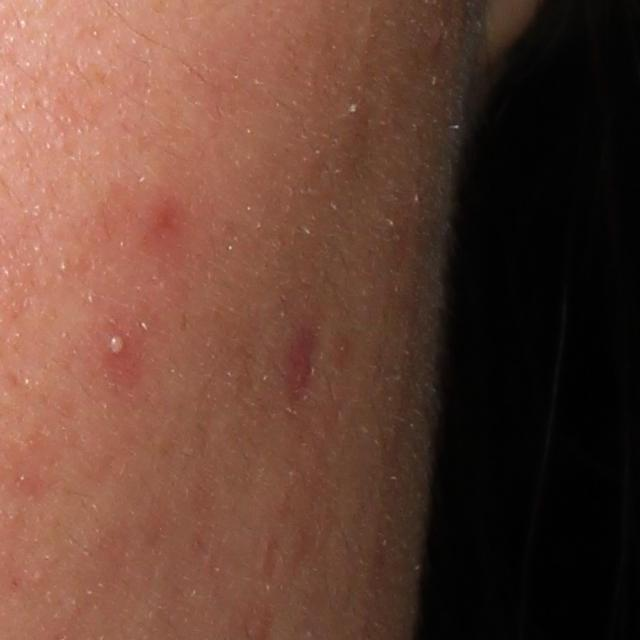pustule: (102, 324, 133, 364)
